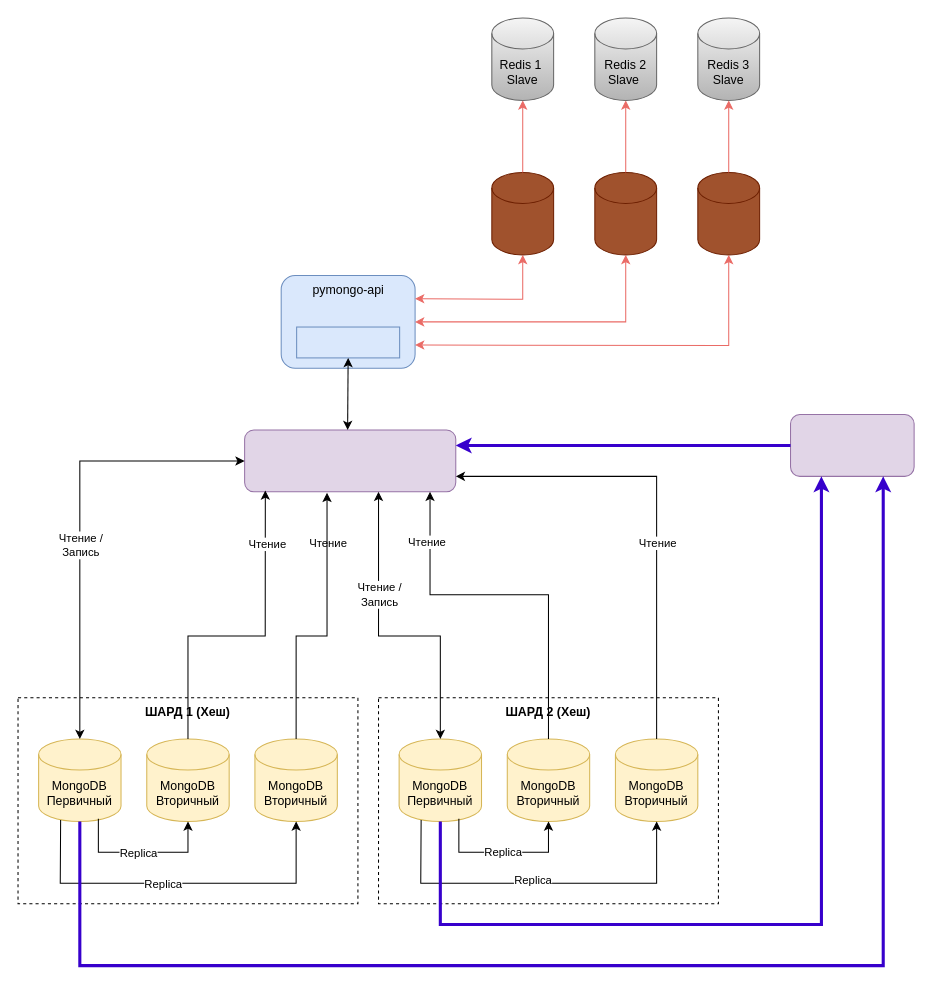
Some shapes in this 932 by 993 pixel diagram are drawn without their labels. Here are the shapes that lost their labels. From the top down, the centre of each, then its label:
(522,213): Redis 1 Master
(625,213): Redis 2 Master
(728,213): Redis 3 Master
(348,342): Драйвер
(350,460): Mongo Роутер
(851,445): Mongo Конфигурационный сервер
